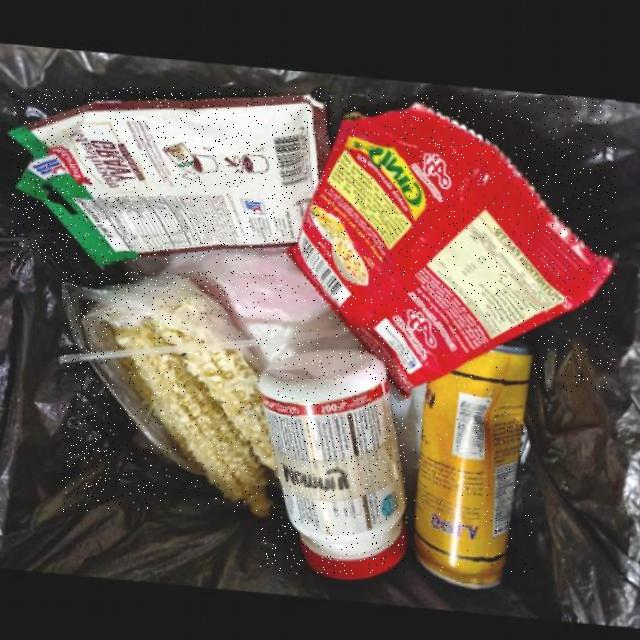biowaste: (110, 319, 272, 512), (184, 346, 276, 464), (152, 317, 201, 344)
metal: (414, 333, 533, 581)
plastic: (62, 271, 282, 512), (259, 342, 407, 574)
wrapper: (287, 96, 616, 393), (12, 88, 329, 263)
